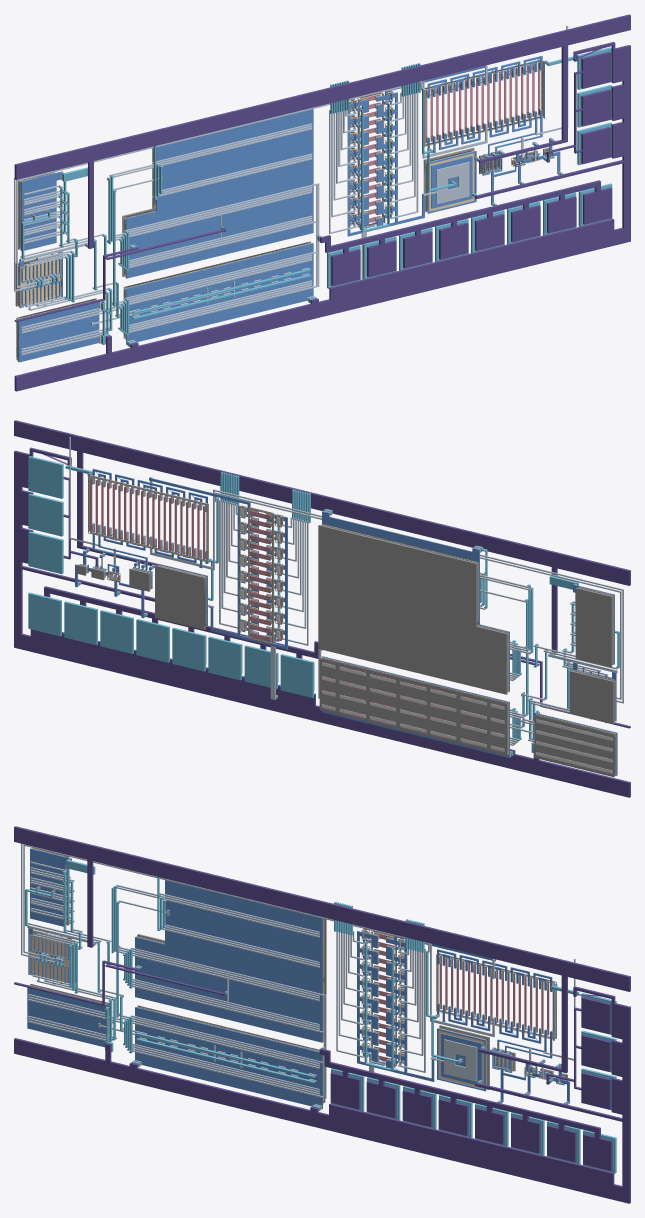
The model's file is bandgap.gds.gltf.
3 renders of one model, top to bottom at view 1: azimuth 30°, elevation 25°; view 2: azimuth 150°, elevation 25°; view 3: azimuth 330°, elevation 25°, orthographic.
Visible parts, largest first — view 1: bandgap_met4, bg__se_folded_cascode_p_met4, bg__cap_met4 (×11), bgfc__casp_bot_met1, bgfc__casp_top_met1, bgfc__casn_top_met1, bandgap_met1, bgfc__casn_top_met2, bgfc__casp_bot_met2, bg__trim_met2, bg__res_poly, bgfc__nmirr_met1 (+23 smaller); view 2: bandgap_met4, bg__cap_met3 (×11), bgfccpb__Guardring_P_nwell, bg__se_folded_cascode_p_met4, bgfccpt__Guardring_P_nwell, bgfccnt__Guardring_N_tap, bg__res_poly, bandgap_met1, bg__trim_met2, bandgap_met2, bgfcpm__Guardring_P_nwell, bgfcnm__Guardring_N_tap (+14 smaller); view 3: bandgap_met4, bg__se_folded_cascode_p_met4, bg__cap_met4 (×11), bgfc__casp_bot_met1, bgfc__casp_top_met1, bgfc__casn_top_met1, bgfc__casn_top_met2, bandgap_met1, bgfc__casp_bot_met2, bg__trim_met2, bg__res_poly, bg__trim_met1 (+22 smaller).
Boxes of the visible parts, x1,y1,x2,y2 form: bandgap_met4: (15, 14, 630, 321); bg__se_folded_cascode_p_met4: (14, 88, 325, 391); bg__cap_met4 (×11): (329, 50, 614, 290); bgfc__casp_bot_met1: (126, 174, 313, 278); bgfc__casp_top_met1: (156, 111, 313, 208); bgfc__casn_top_met1: (126, 243, 313, 340); bandgap_met1: (347, 56, 560, 236); bgfc__casn_top_met2: (118, 252, 315, 332); bgfc__casp_bot_met2: (115, 184, 315, 268); bg__trim_met2: (329, 93, 418, 233); bg__res_poly: (425, 62, 540, 142); bgfc__nmirr_met1: (18, 302, 101, 362); bandgap_met4: (14, 420, 630, 726); bg__cap_met3 (×11): (28, 456, 313, 697); bgfccpb__Guardring_P_nwell: (318, 588, 507, 694); bg__se_folded_cascode_p_met4: (319, 494, 630, 797); bgfccpt__Guardring_P_nwell: (318, 525, 477, 624); bgfccnt__Guardring_N_tap: (319, 658, 507, 755); bg__res_poly: (90, 478, 205, 559); bandgap_met1: (75, 468, 287, 649); bg__trim_met2: (219, 500, 308, 645); bandgap_met2: (69, 437, 623, 703); bgfcpm__Guardring_P_nwell: (575, 587, 612, 667); bgfcnm__Guardring_N_tap: (534, 715, 614, 777); bandgap_met4: (14, 900, 630, 1203); bg__se_folded_cascode_p_met4: (14, 826, 325, 1129); bg__cap_met4 (×11): (329, 997, 613, 1174); bgfc__casp_bot_met1: (135, 937, 322, 1042); bgfc__casp_top_met1: (165, 882, 322, 979); bgfc__casn_top_met1: (135, 1007, 322, 1104); bgfc__casn_top_met2: (125, 1015, 322, 1097); bandgap_met1: (357, 936, 569, 1103); bgfc__casp_bot_met2: (121, 947, 321, 1032); bg__trim_met2: (336, 931, 425, 1072); bg__res_poly: (439, 956, 553, 1035); bg__trim_met1: (357, 931, 407, 1064).
Bounding box in the file's own units: 210 × 74.12 × 5.37.
